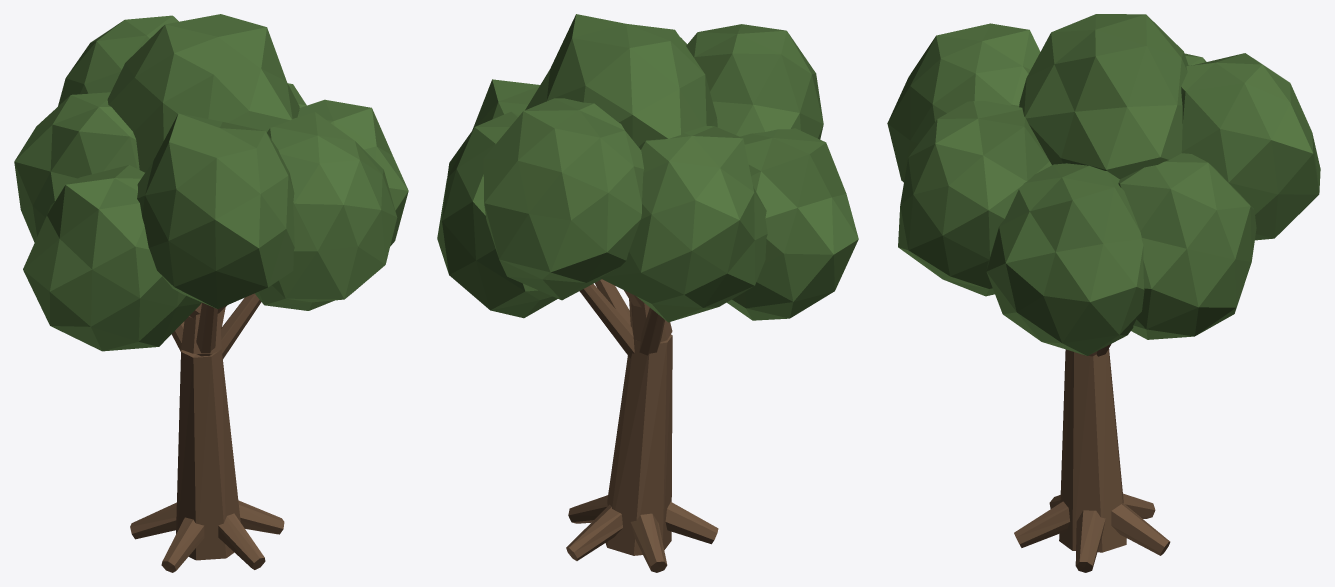
The model's file is maple.glb.
3 views of the same model, side by side, from view 1: azimuth 30°, elevation 25°; view 2: azimuth 150°, elevation 25°; view 3: azimuth 270°, elevation 25° (orthographic).
Parts seen in each view (by area): view 1: maple_tree; view 2: maple_tree; view 3: maple_tree.
Part boxes in pixels (x1,y1,x2,y2): maple_tree: (14, 14, 408, 572); maple_tree: (437, 14, 858, 572); maple_tree: (887, 14, 1320, 572).
Bounding box in the file's own units: 4.97 × 6.43 × 4.87.
